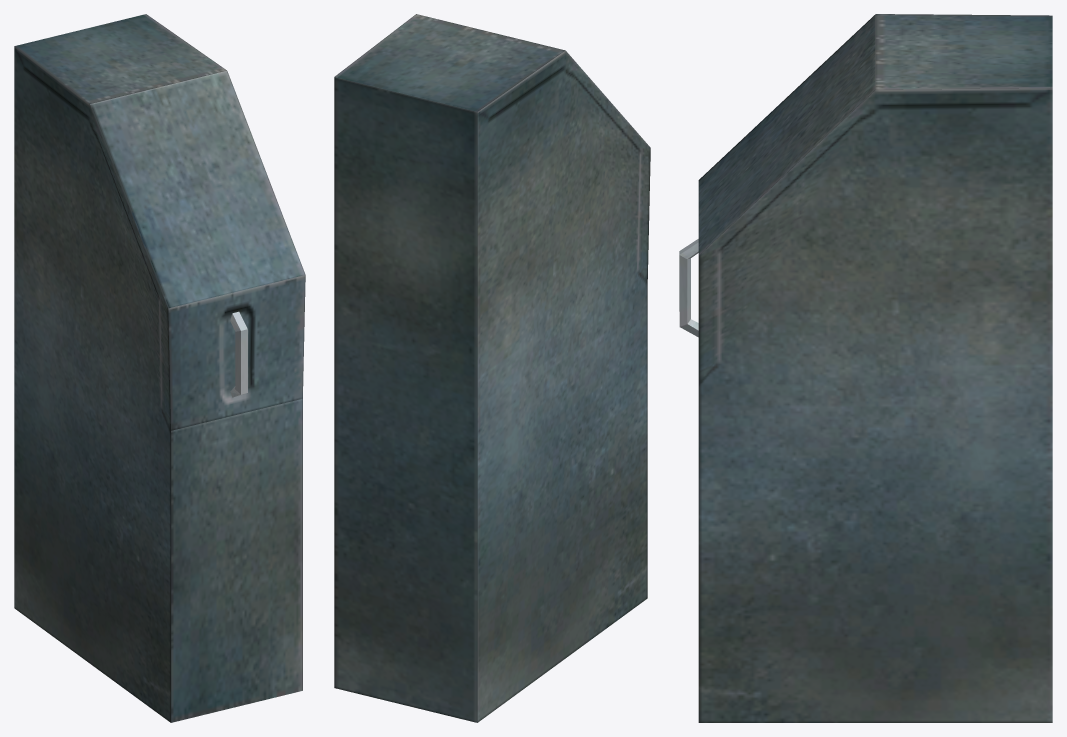
File: con_gen_crate_basic_s2_l1.fbx
3 views of the same model, side by side, from view 1: azimuth 30°, elevation 25°; view 2: azimuth 150°, elevation 25°; view 3: azimuth 270°, elevation 25° (orthographic). The views are drawn at different scales.
Visible parts, largest first — view 1: mesh_node; view 2: mesh_node; view 3: mesh_node.
Part boxes in pixels (x1,y1,x2,y2): mesh_node: (14, 14, 305, 722); mesh_node: (334, 14, 650, 722); mesh_node: (679, 14, 1052, 722).
Size of the model in its own units: 0.2059 by 0.8045 by 0.4288.
